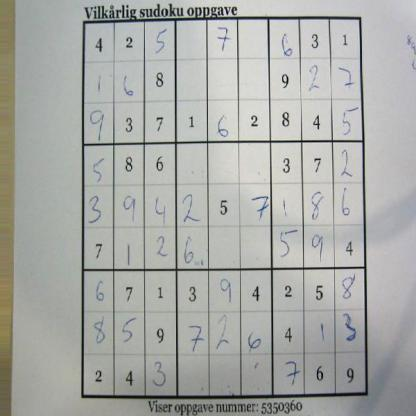sudoku: (79, 14, 373, 401)
